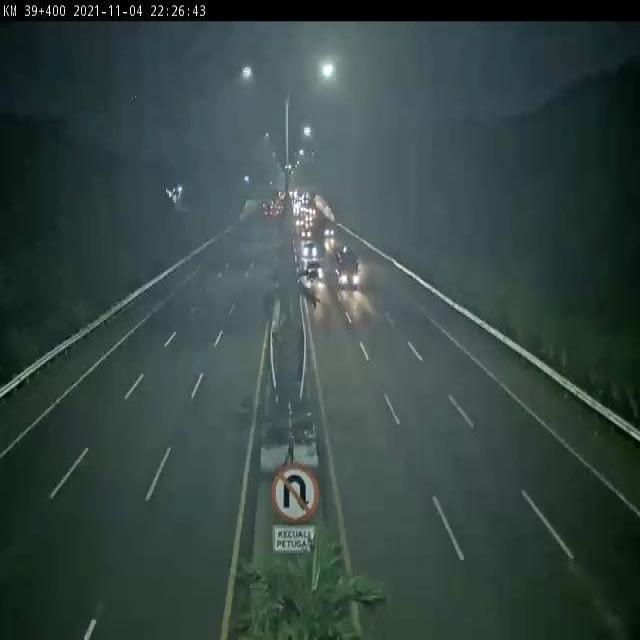Car: (304, 258, 324, 284)
Truck: (329, 244, 362, 294)
